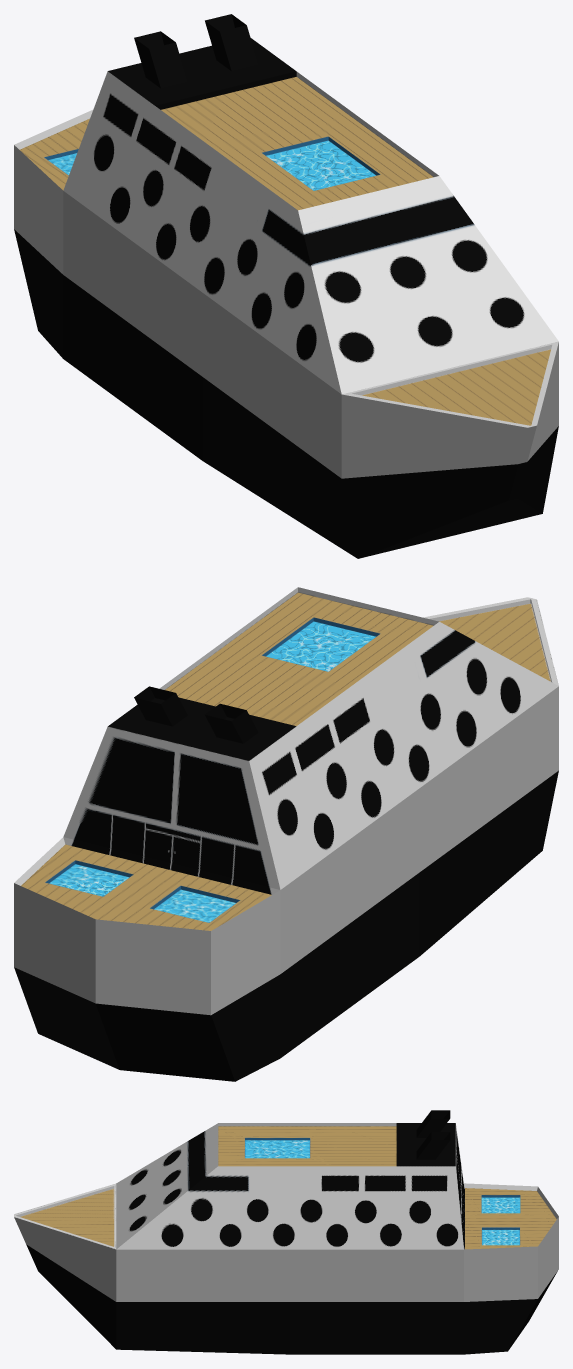
Rendered from cruise.fbx.
3 renders of one model, top to bottom at view 1: azimuth 30°, elevation 25°; view 2: azimuth 150°, elevation 25°; view 3: azimuth 270°, elevation 25°, orthographic. The views are drawn at different scales.
Visible parts, largest first — view 1: Cube; view 2: Cube; view 3: Cube.
Boxes of the visible parts, x1,y1,x2,y2 form: Cube: (14, 14, 558, 558); Cube: (14, 587, 558, 1081); Cube: (14, 1110, 558, 1354).
Size of the model in its own units: 270 by 374 by 940.
